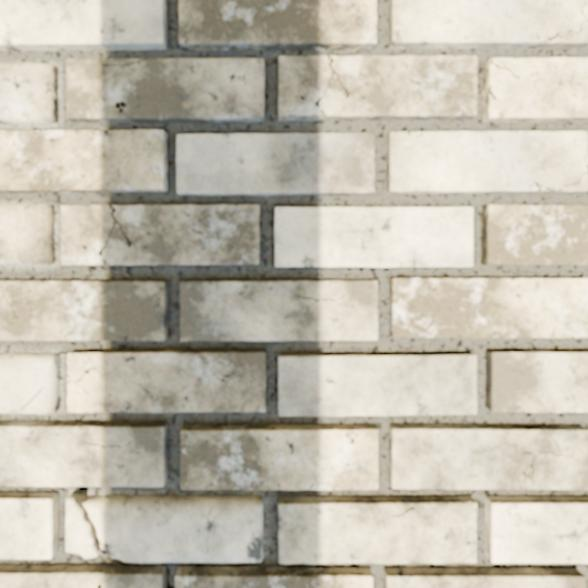brick: (279, 497, 476, 563), (180, 425, 377, 489), (389, 425, 587, 488), (67, 59, 264, 122), (279, 57, 476, 120), (279, 354, 476, 416), (68, 350, 265, 412), (387, 132, 587, 193), (177, 134, 373, 195), (180, 281, 376, 340), (62, 205, 258, 264), (390, 279, 587, 337), (276, 208, 472, 266), (0, 422, 167, 486), (0, 130, 167, 192), (179, 0, 375, 51), (0, 281, 167, 340), (389, 0, 587, 49), (0, 0, 166, 50), (485, 497, 587, 562), (483, 58, 587, 121), (486, 350, 587, 412), (481, 205, 587, 264), (384, 567, 585, 587), (176, 567, 372, 587), (0, 493, 58, 558), (0, 565, 164, 587), (0, 204, 56, 265), (562, 172, 587, 193), (584, 6, 587, 16)
broken_brick: (86, 495, 263, 563), (0, 353, 60, 415), (0, 62, 59, 125), (65, 493, 97, 559)
crack: (73, 485, 110, 556), (535, 0, 587, 44), (533, 155, 587, 193), (97, 204, 133, 258), (315, 56, 350, 109), (66, 367, 107, 395), (137, 562, 174, 587), (0, 280, 18, 320), (490, 58, 521, 80), (100, 58, 148, 67), (366, 169, 373, 177), (96, 584, 103, 587)
